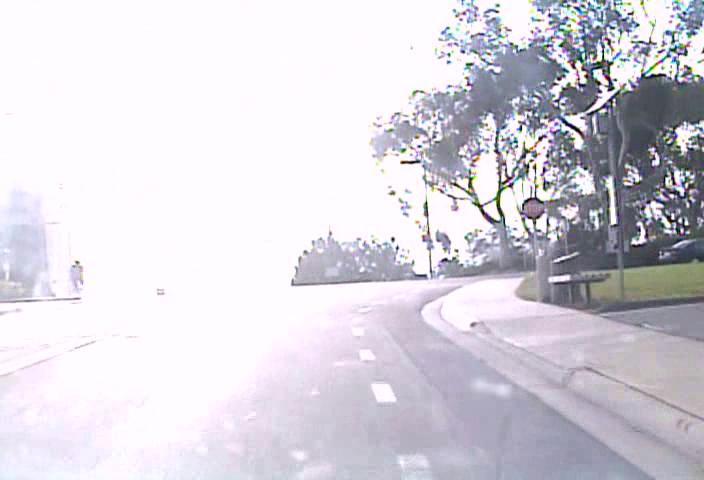stop: (521, 196, 545, 220)
